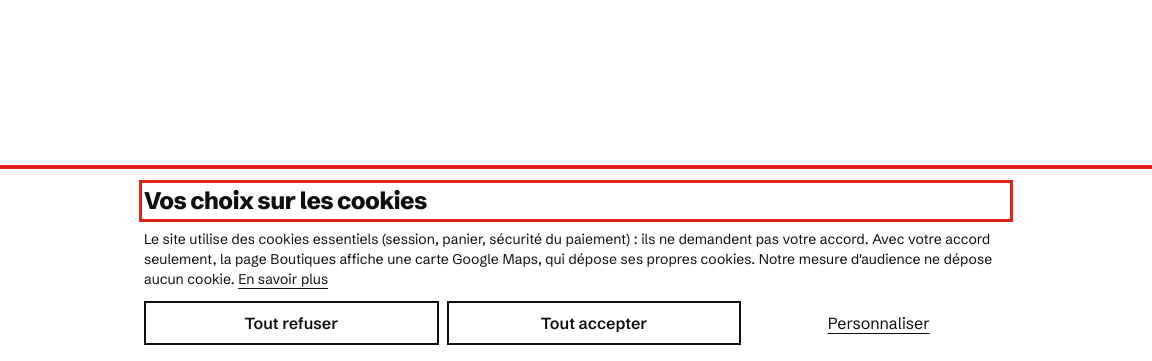
Scenario: Bandeau de consentement (C11, TF10) › s'affiche au premier passage ; refuser et accepter sont au même niveau ; rien n'est pré-coché
Click the button "Personnaliser".
click(879, 323)  # box [749,301,1008,345]
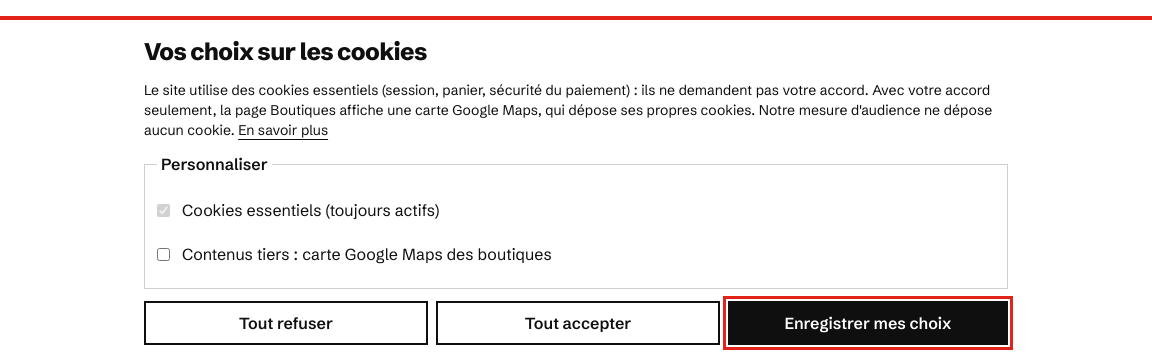
Check: the checkbox labelled "Contenus tiers : carte Google Maps des boutiques" is not checked, box [157,248,170,260]
